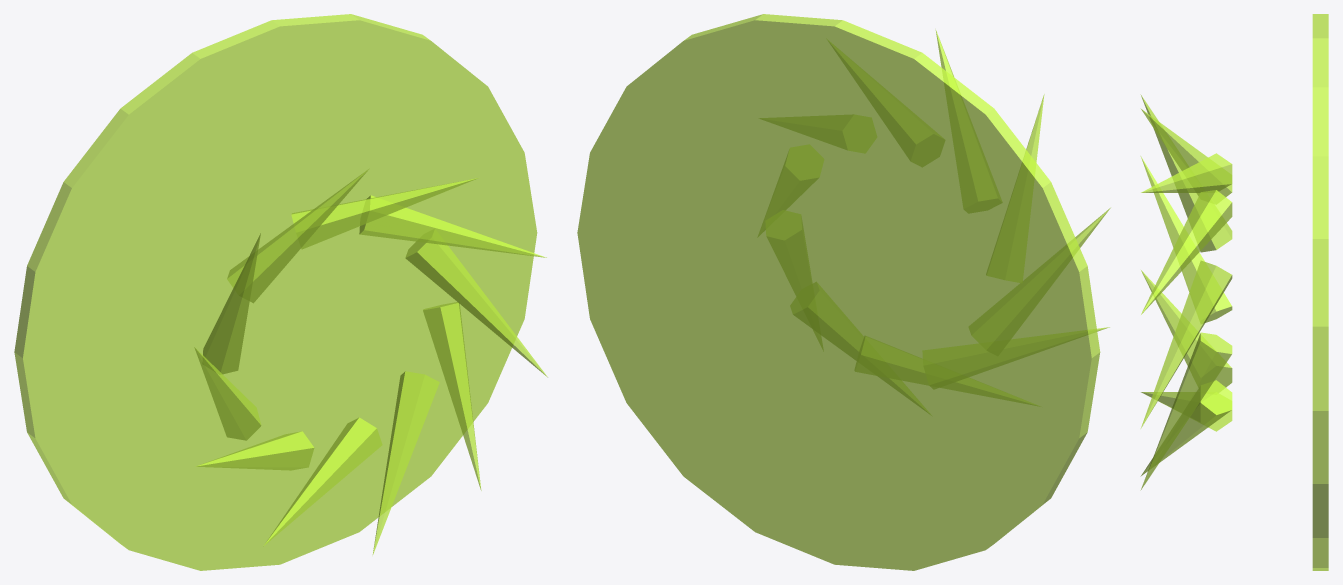
File: vfx_acid_splash.glb
3 renders of one model, left to right at view 1: azimuth 30°, elevation 25°; view 2: azimuth 150°, elevation 25°; view 3: azimuth 270°, elevation 25°, orthographic. The views are drawn at different scales.
Parts seen in each view (by area): view 1: puddle, splash_1, splash_2, splash_9, splash_4, splash_0, splash_3, splash_8, splash_5, splash_7, splash_6; view 2: puddle, splash_6, splash_4, splash_5, splash_7, splash_3, splash_9, splash_8, splash_2, splash_0, splash_1; view 3: puddle, splash_0, splash_1, splash_6, splash_2, splash_5, splash_7, splash_9, splash_4, splash_3, splash_8.
Part boxes in pixels (left/top/right/bottom): puddle: left=14, top=14, right=537, bottom=570; splash_1: left=405, top=229, right=547, bottom=377; splash_2: left=359, top=195, right=546, bottom=257; splash_9: left=372, top=371, right=439, bottom=555; splash_4: left=227, top=168, right=369, bottom=303; splash_0: left=423, top=302, right=481, bottom=490; splash_3: left=291, top=178, right=478, bottom=249; splash_8: left=263, top=417, right=382, bottom=546; splash_5: left=203, top=233, right=260, bottom=374; splash_7: left=195, top=431, right=314, bottom=470; splash_6: left=194, top=347, right=261, bottom=440; puddle: left=577, top=14, right=1100, bottom=570; splash_6: left=969, top=207, right=1110, bottom=355; splash_4: left=935, top=29, right=1001, bottom=212; splash_5: left=986, top=94, right=1044, bottom=282; splash_7: left=923, top=327, right=1109, bottom=388; splash_3: left=829, top=41, right=944, bottom=166; splash_9: left=791, top=282, right=929, bottom=413; splash_8: left=855, top=336, right=1037, bottom=405; splash_2: left=760, top=115, right=876, bottom=152; splash_0: left=766, top=210, right=822, bottom=348; splash_1: left=758, top=145, right=823, bottom=236; puddle: left=1312, top=14, right=1328, bottom=570; splash_0: left=1140, top=332, right=1232, bottom=490; splash_1: left=1140, top=260, right=1232, bottom=428; splash_6: left=1140, top=156, right=1232, bottom=323; splash_2: left=1141, top=190, right=1232, bottom=314; splash_5: left=1140, top=94, right=1232, bottom=252; splash_7: left=1141, top=270, right=1232, bottom=392; splash_9: left=1140, top=380, right=1232, bottom=476; splash_4: left=1140, top=108, right=1232, bottom=203; splash_3: left=1141, top=153, right=1232, bottom=192; splash_8: left=1141, top=392, right=1232, bottom=431.
Size of the model in its own units: 1.4 by 1.4 by 0.4702.
